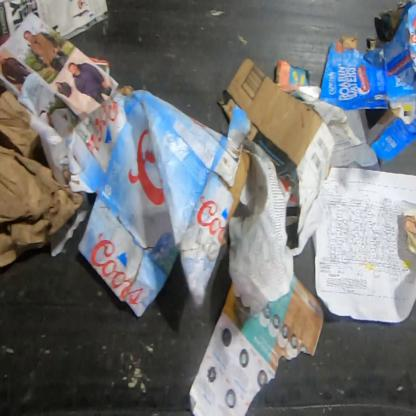cardboard: (58, 82, 253, 320), (215, 54, 336, 236), (317, 0, 415, 163), (0, 88, 85, 268)
